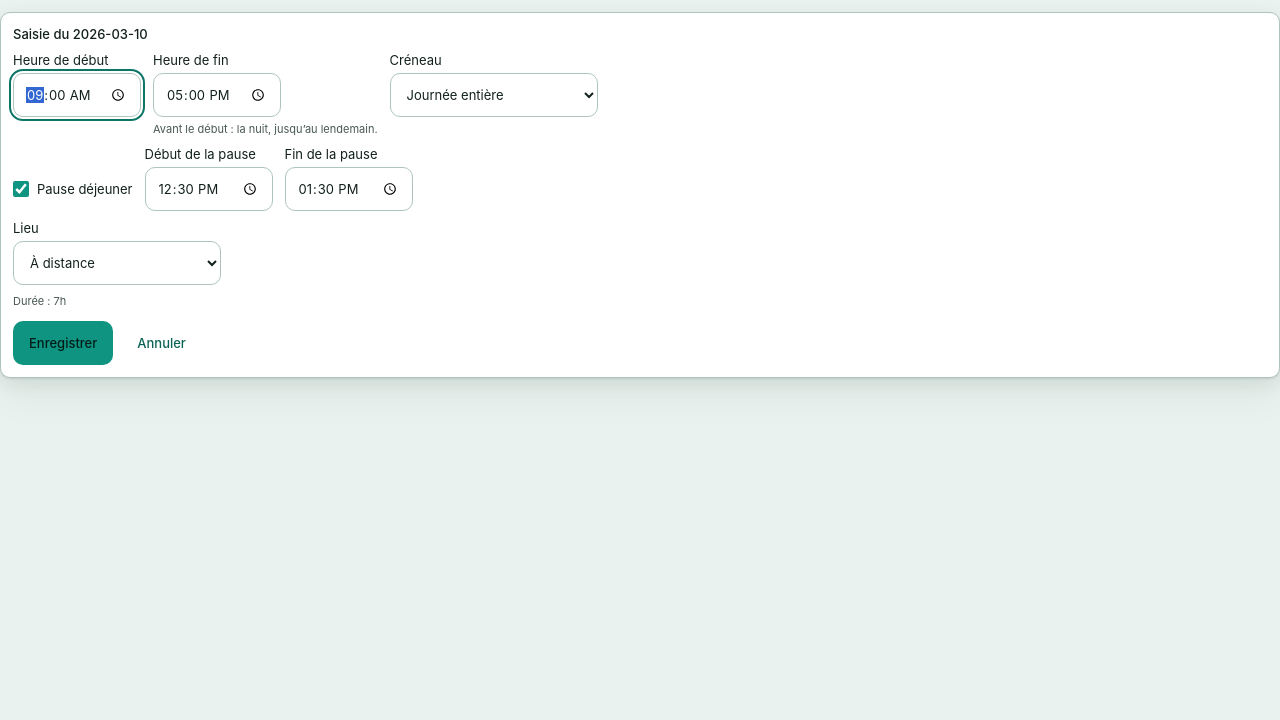
Test: CellForm — pause déjeuner › décoche la pause quand on choisit un créneau nommé
Select "Matin (AM)" in the dropdown labelled "Créneau" at (494, 95), box x1=390 y1=73 x2=598 y2=117
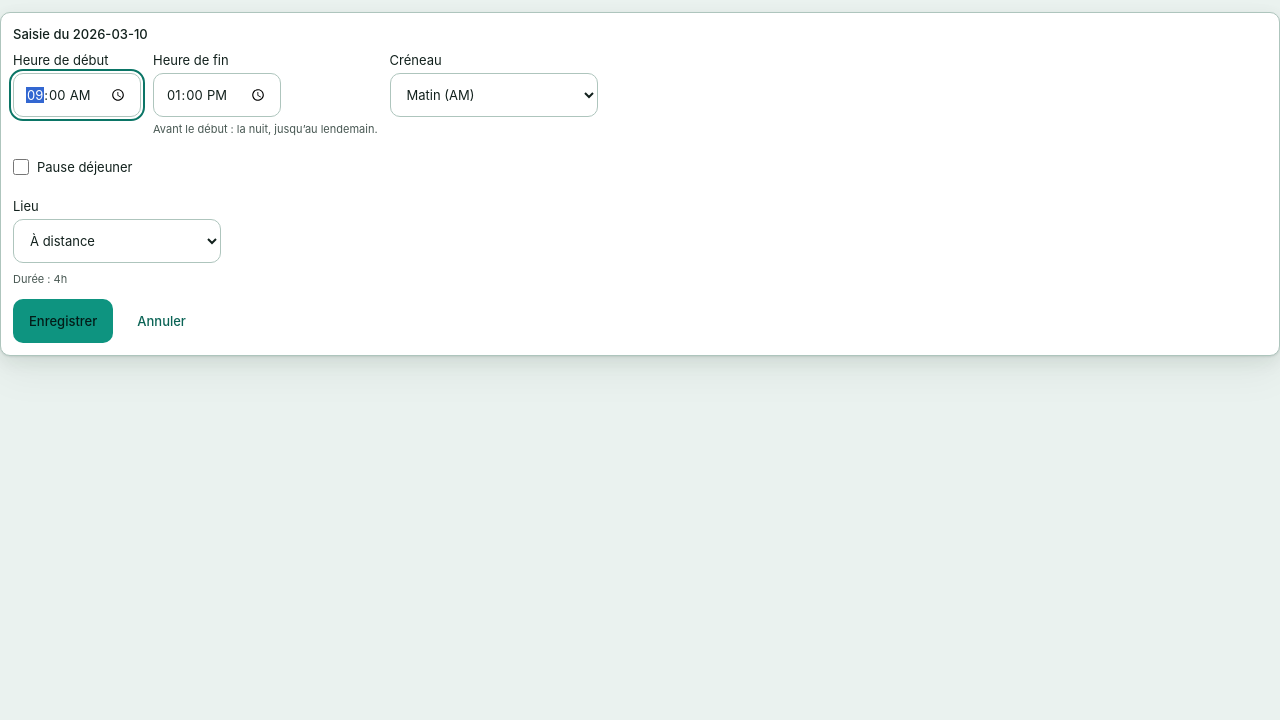
Check: the checkbox labelled "Pause déjeuner" is not checked, box x1=13 y1=159 x2=29 y2=175
